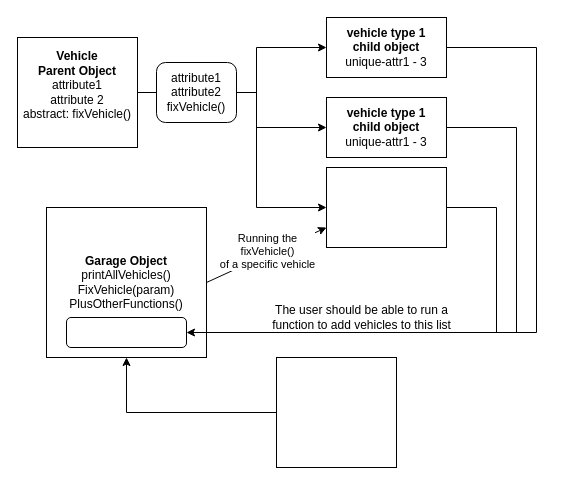
This 562x485 diagram has some shape labels left out. The shapes that lost their labels are listed below. From the top down, each one's box as (x1, y1, x2, y2) in pixels, then its label:
(326, 166, 446, 248): vehicle type 1 child object unique-attr1 - 3 fixVehicle()
(66, 316, 186, 348): List of Vehicles
(276, 356, 396, 468): main.py Create the Garage Object and vehicles, run garage object functions
